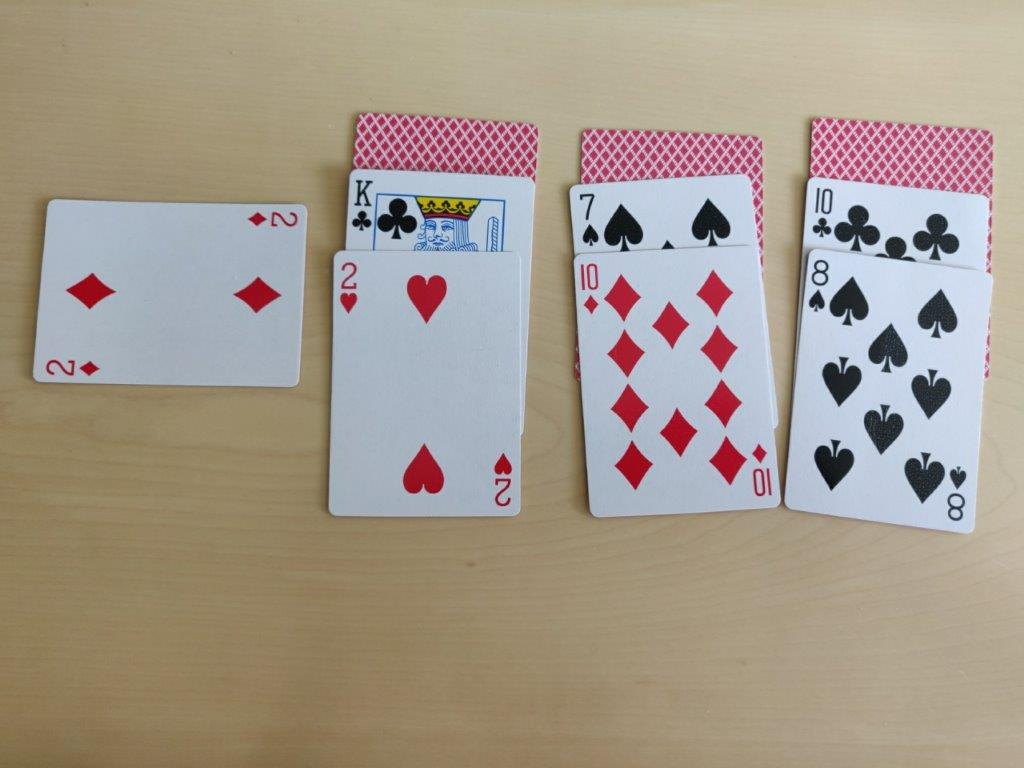10C: (808, 186, 836, 243)
10D: (573, 254, 602, 318)
2H: (337, 256, 363, 317)
7S: (575, 186, 605, 250)
8S: (806, 256, 828, 322)
BACK: (805, 111, 999, 192), (354, 103, 539, 173), (580, 129, 767, 181)
KC: (350, 173, 379, 238)
